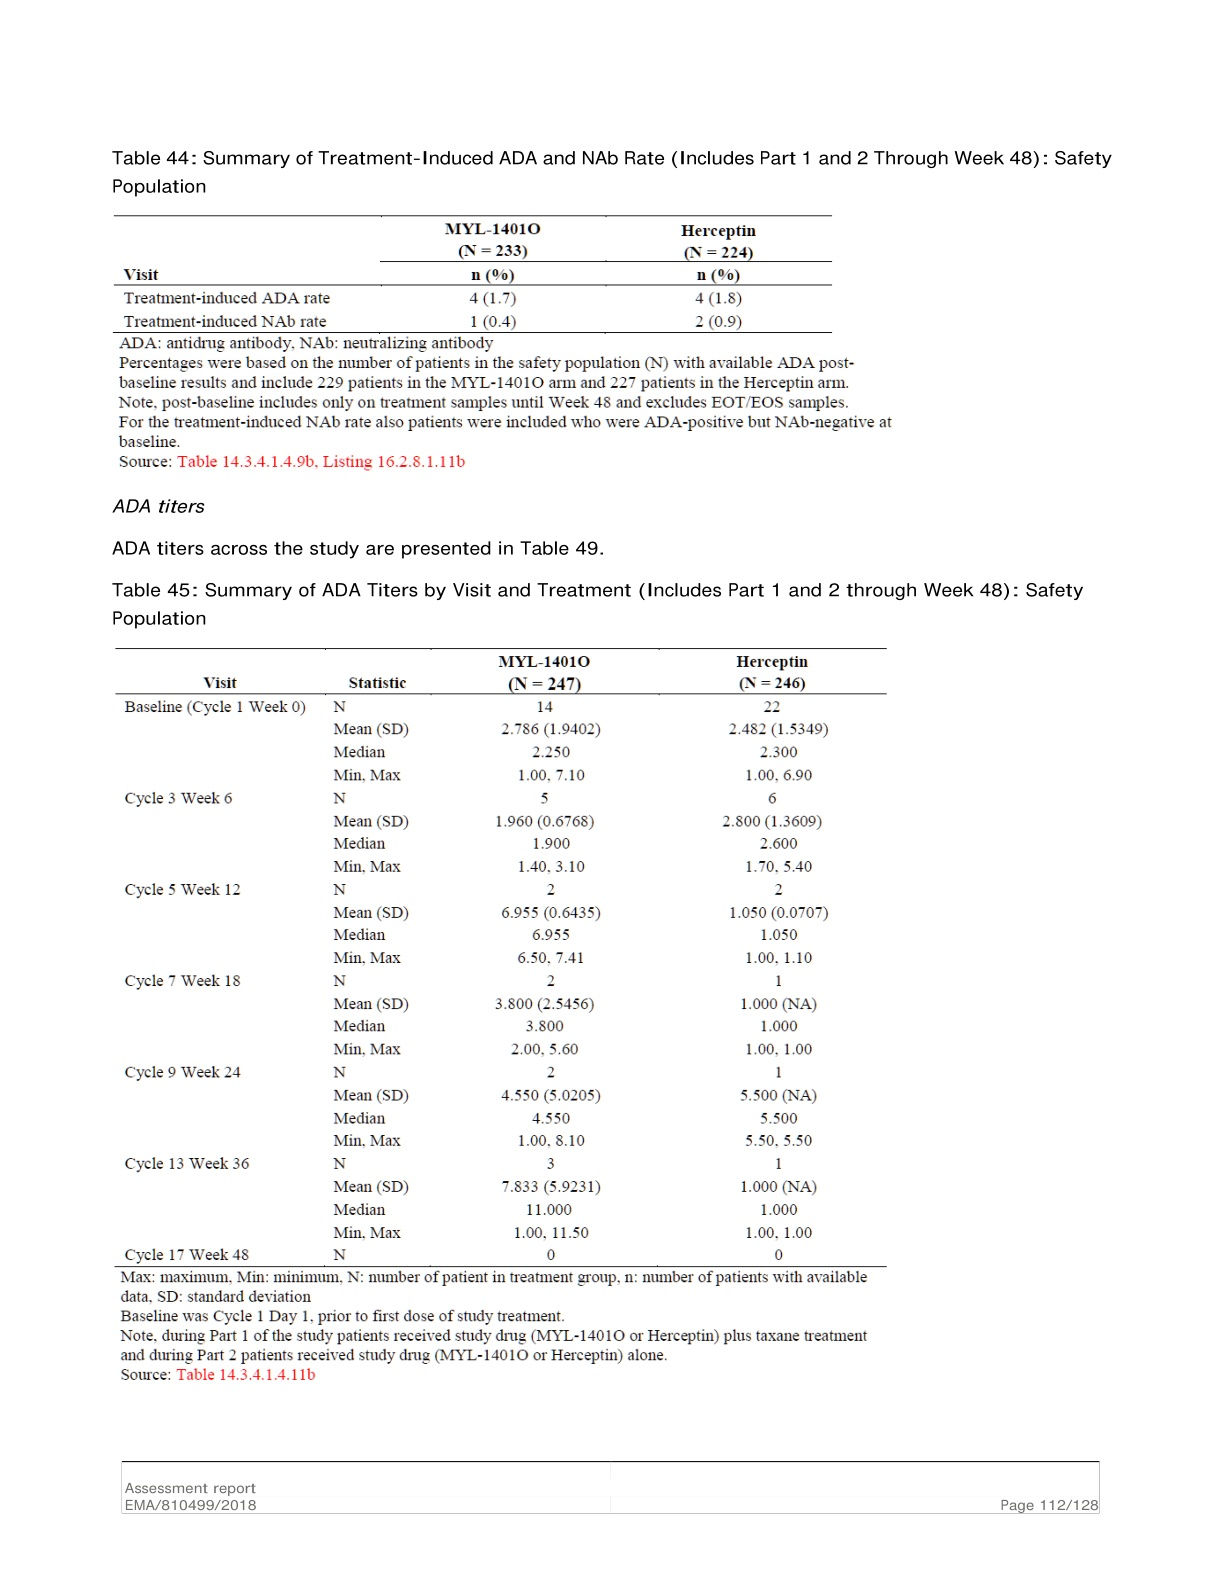partial_lined: (113, 645, 887, 1270), (112, 213, 834, 336)
